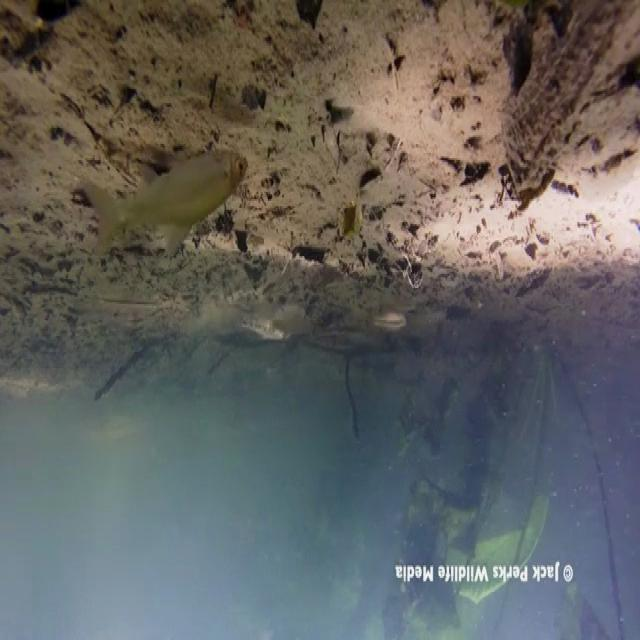Cakil Baligi: (80, 148, 250, 264)
